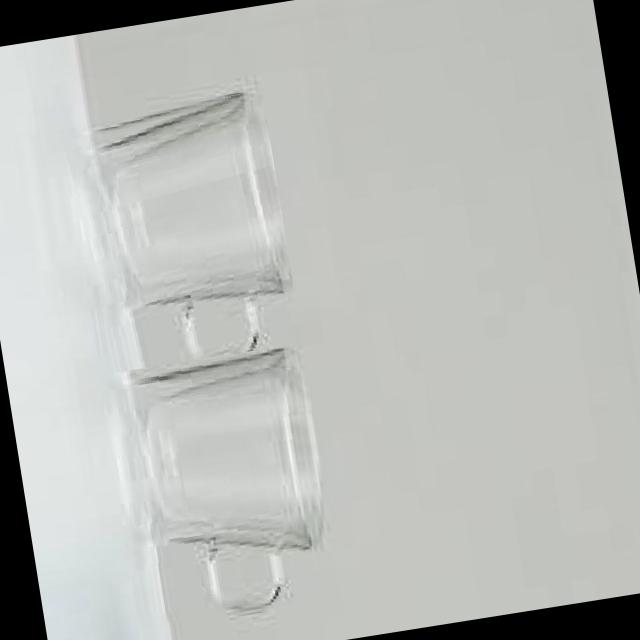Glass: (98, 343, 342, 635), (60, 88, 302, 376)
